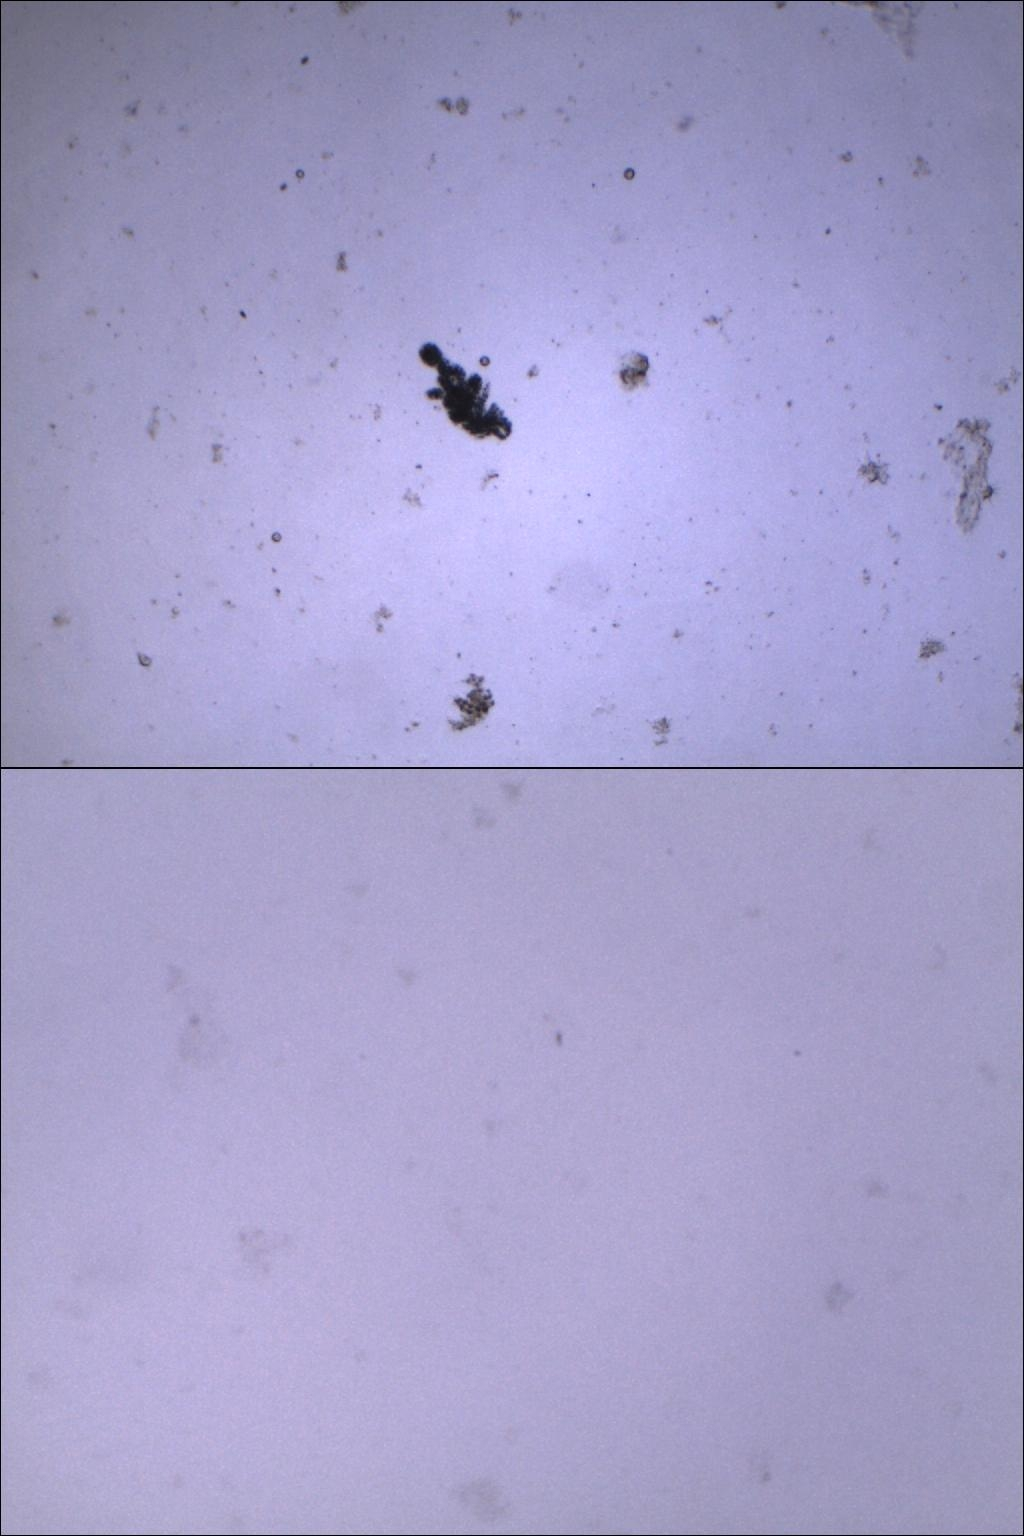N.Fowleri Amoeba: (145, 954, 273, 1111)
Proteus Amoeba: (397, 325, 530, 457)
